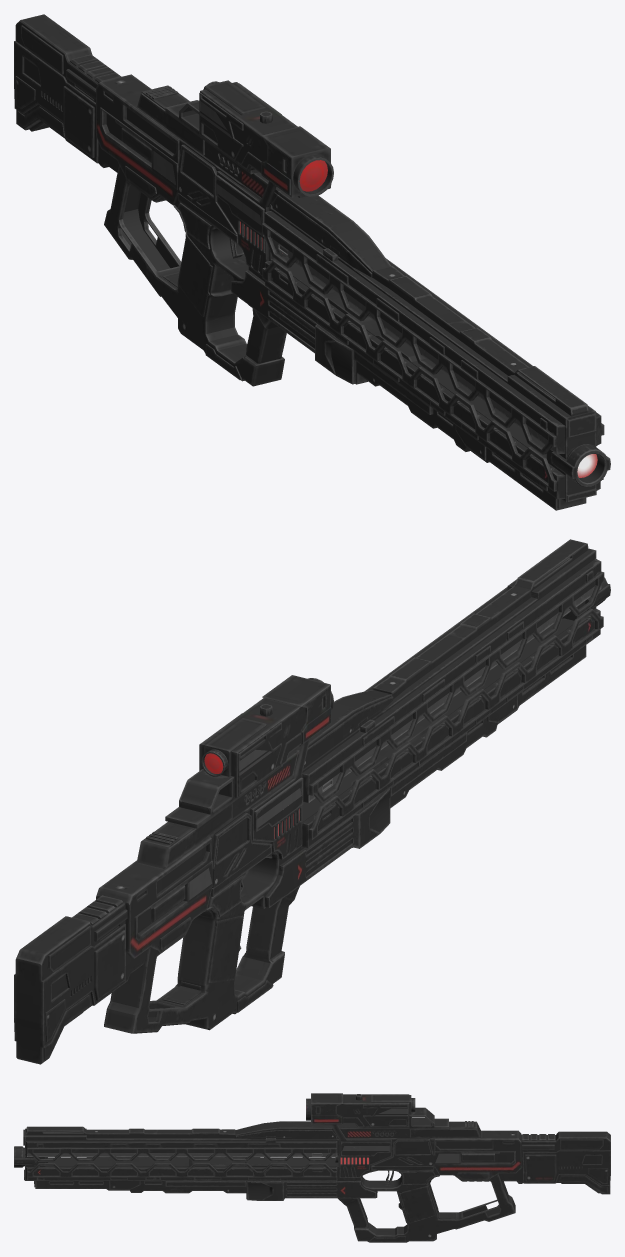
File: lance-nexus-rail.glb
3 views of the same model, one above another, from view 1: azimuth 30°, elevation 25°; view 2: azimuth 150°, elevation 25°; view 3: azimuth 270°, elevation 25° (orthographic). The views are drawn at different scales.
Parts seen in each view (by area): view 1: Body5; view 2: Body5; view 3: Body5.
Boxes of the visible parts, bbox=[...] form: Body5: bbox=[14, 14, 610, 510]; Body5: bbox=[14, 539, 610, 1064]; Body5: bbox=[14, 1093, 610, 1242].
Bounding box in the file's own units: 0.0796 × 0.4076 × 1.54.
Materials: 4 (4 with a texture image).
